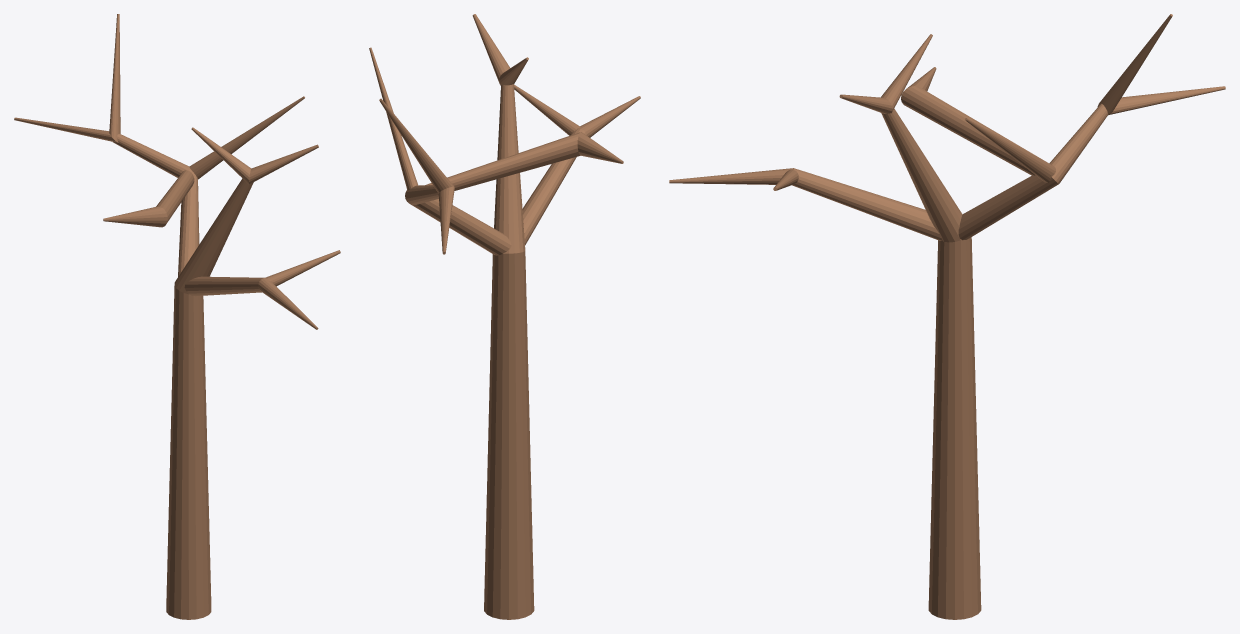
Rendered from tree3.fbx.
3 views of the same model, side by side, from view 1: azimuth 30°, elevation 25°; view 2: azimuth 150°, elevation 25°; view 3: azimuth 270°, elevation 25° (orthographic). The views are drawn at different scales.
Parts seen in each view (by area): view 1: Cube; view 2: Cube; view 3: Cube.
Boxes of the visible parts, x1,y1,x2,y2 form: Cube: (14, 14, 340, 619); Cube: (369, 14, 640, 619); Cube: (669, 14, 1225, 619).
Bounding box in the file's own units: 10.83 × 25.12 × 20.86.
